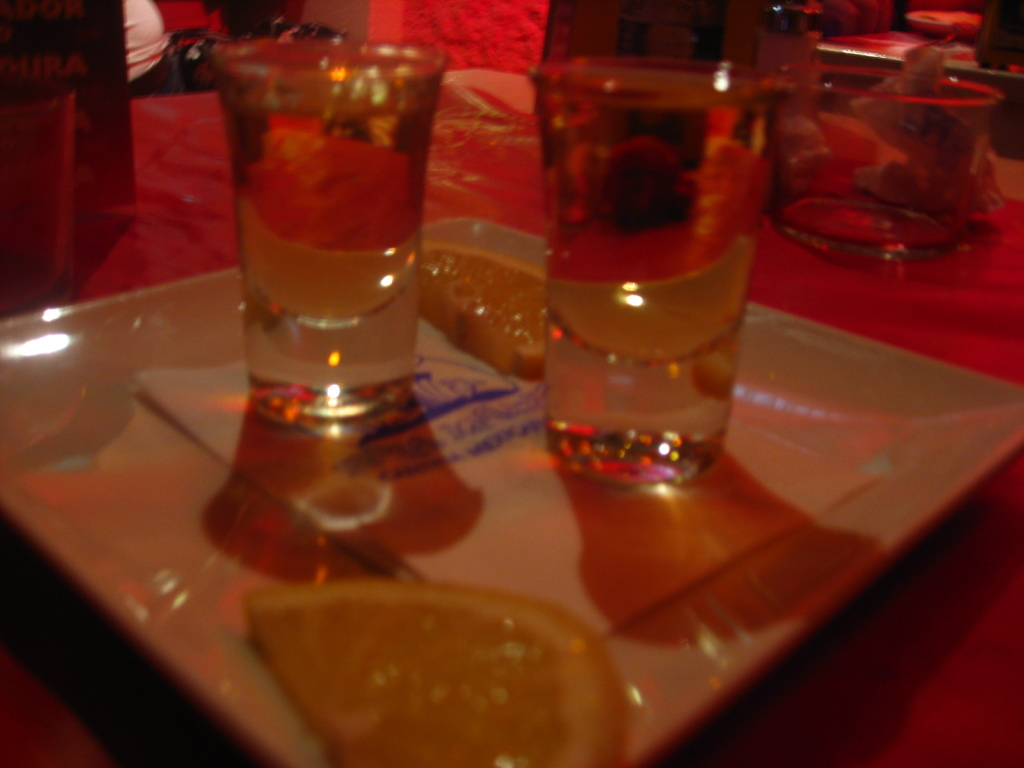Beer: (510, 63, 744, 482)
